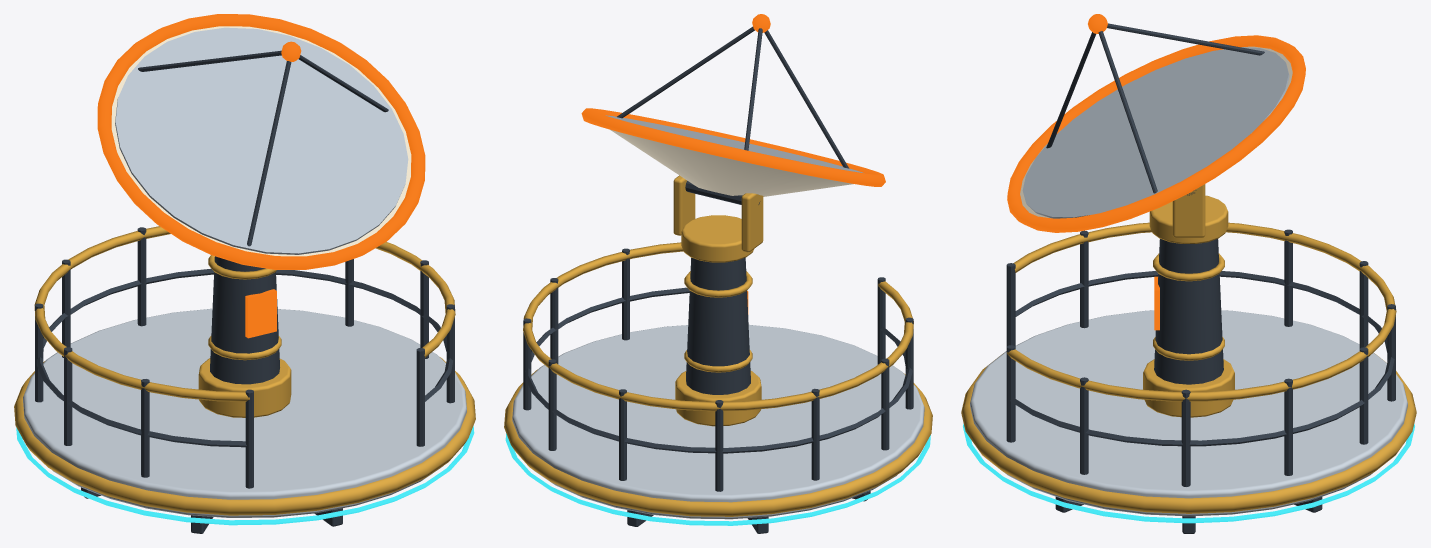
File: signal_mast_top.glb
3 renders of one model, left to right at view 1: azimuth 30°, elevation 25°; view 2: azimuth 150°, elevation 25°; view 3: azimuth 270°, elevation 25°, orthographic. The views are drawn at different scales.
Visible parts, largest first — view 1: signal_mast_top_body, dish, dish_glow; view 2: signal_mast_top_body, dish, dish_glow; view 3: signal_mast_top_body, dish, dish_glow.
Part boxes in pixels (box(x1,y1,x2,y2)): signal_mast_top_body: box(14, 226, 475, 533); dish: box(111, 26, 411, 256); dish_glow: box(97, 14, 425, 269); signal_mast_top_body: box(504, 242, 932, 533); dish: box(605, 26, 862, 262); dish_glow: box(581, 14, 885, 186); signal_mast_top_body: box(961, 222, 1416, 533); dish: box(1020, 23, 1292, 243); dish_glow: box(1007, 14, 1305, 232).
Bounding box in the file's own units: 4.16 × 4.61 × 4.16.
